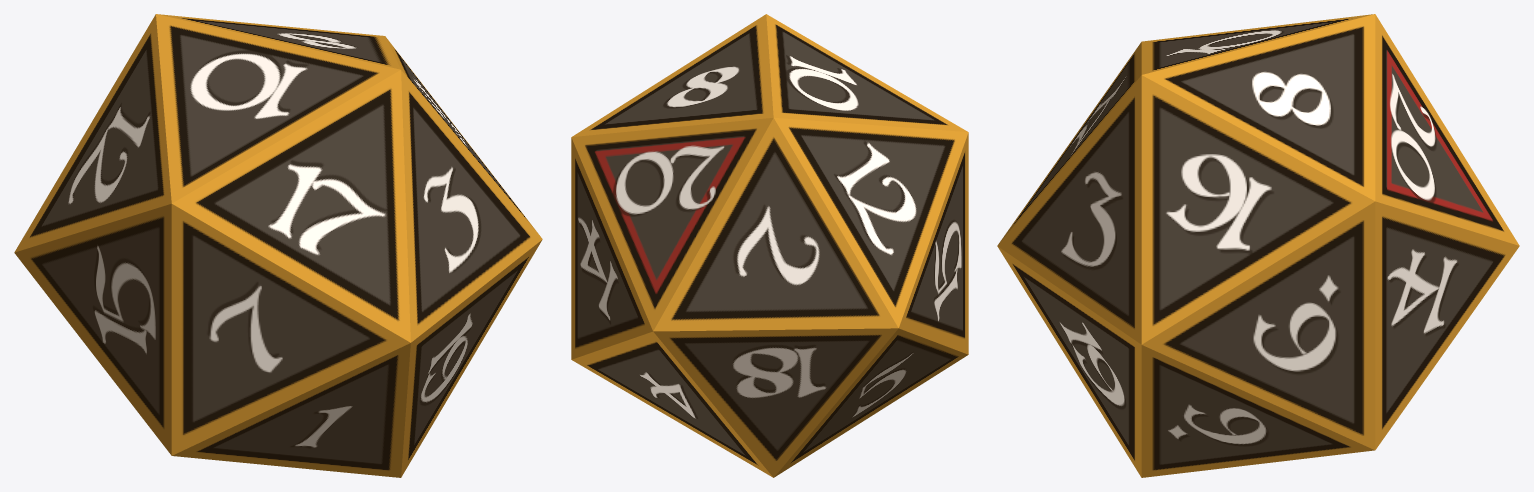
Rendered from D20-Dice-HiRez-GLB.glb.
The picture shows the model from 3 angles, left to right: view 1: azimuth 30°, elevation 25°; view 2: azimuth 150°, elevation 25°; view 3: azimuth 270°, elevation 25°; orthographic projection. The views are drawn at different scales.
Visible parts, largest first — view 1: D20; view 2: D20; view 3: D20.
Part boxes in pixels (bbox=[...]): D20: bbox=[14, 14, 542, 477]; D20: bbox=[571, 14, 968, 477]; D20: bbox=[997, 14, 1519, 477].
Size of the model in its own units: 1.79 by 1.7 by 2.
1 material, 1 textured.
